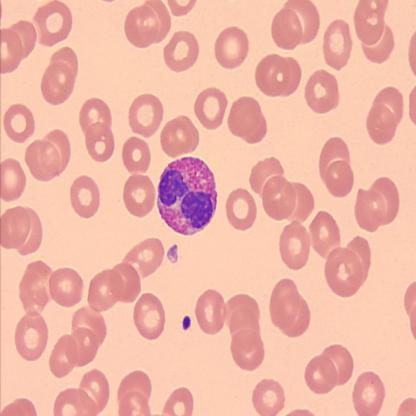Eosinophil: (158, 156, 220, 235)
